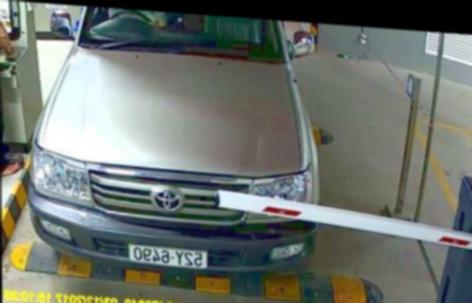License_Plate: (127, 241, 206, 270)
